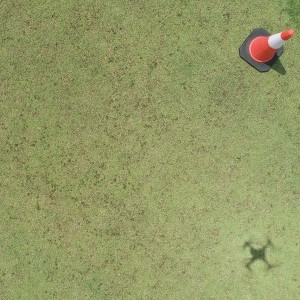traffic cone: (239, 28, 295, 72)
